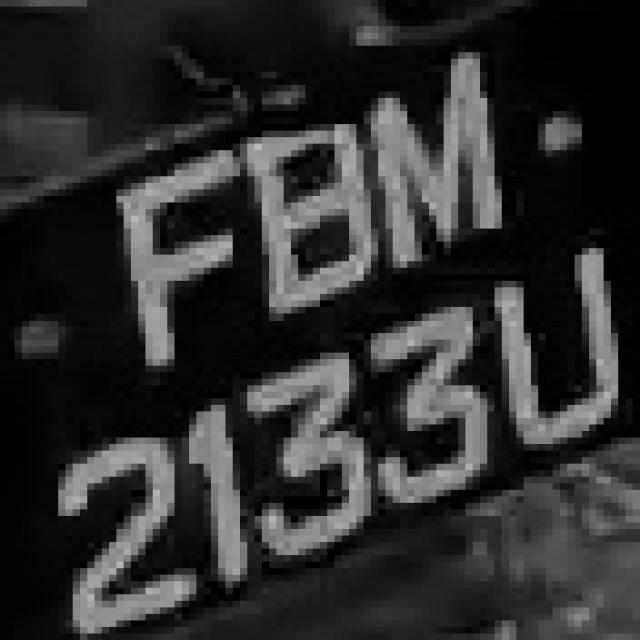1: (174, 366, 262, 601)
2: (44, 431, 204, 640)
3: (335, 294, 509, 503), (218, 353, 371, 555)
B: (218, 111, 393, 313)
F: (87, 150, 240, 366)
M: (356, 65, 502, 268)
U: (472, 248, 632, 451)
